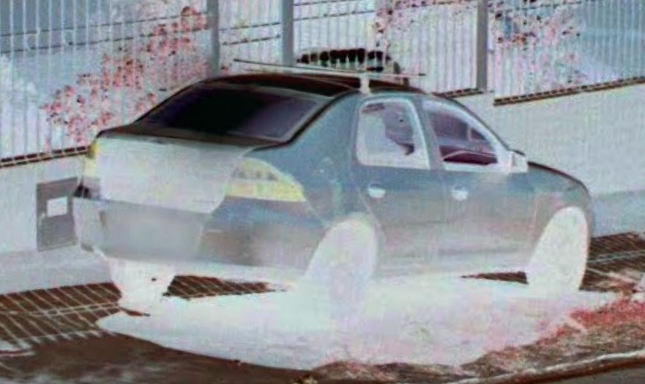car: (69, 72, 592, 323)
